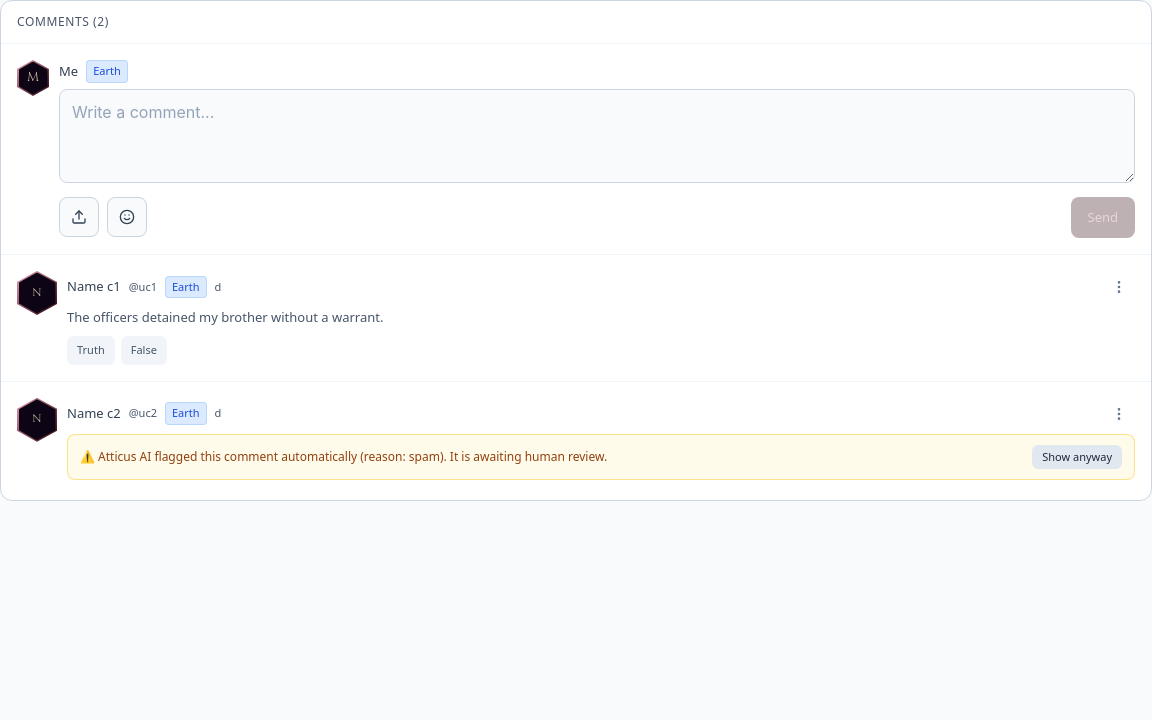
Test: CommentsSection: a flagged comment is collapsed, 'Show anyway' reveals it
The image size is (1152, 720).
Click the button "Show anyway": (1077, 457) [1032,445,1122,469]
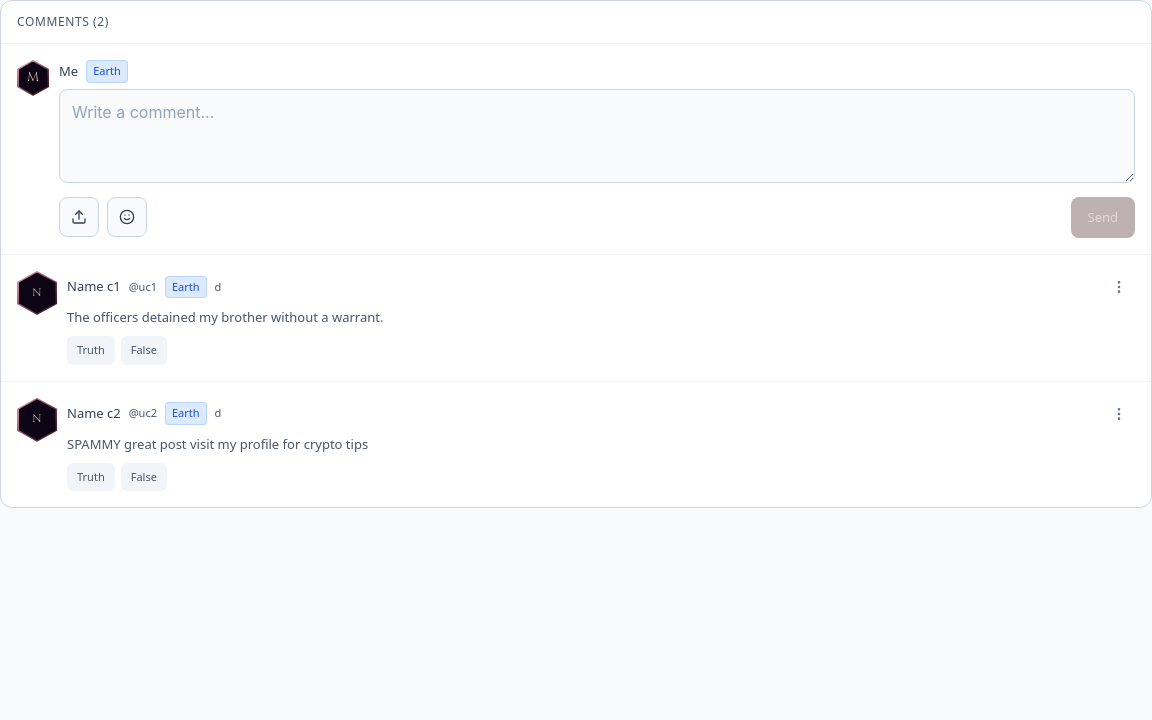
Expected: the text "visit my profile" is shown, [67,435,368,453]
Expected: the text "flagged this comment automatically" is gone
